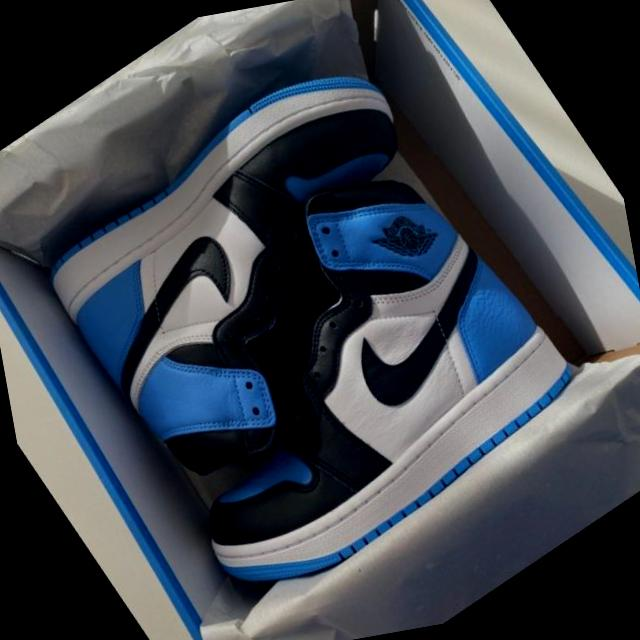nike_original_jordan: (44, 93, 633, 640), (0, 13, 546, 518)
